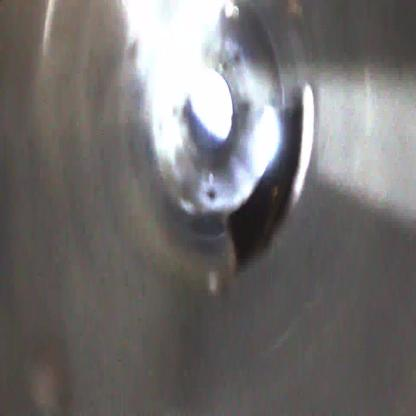Crack2: (227, 82, 319, 277)
